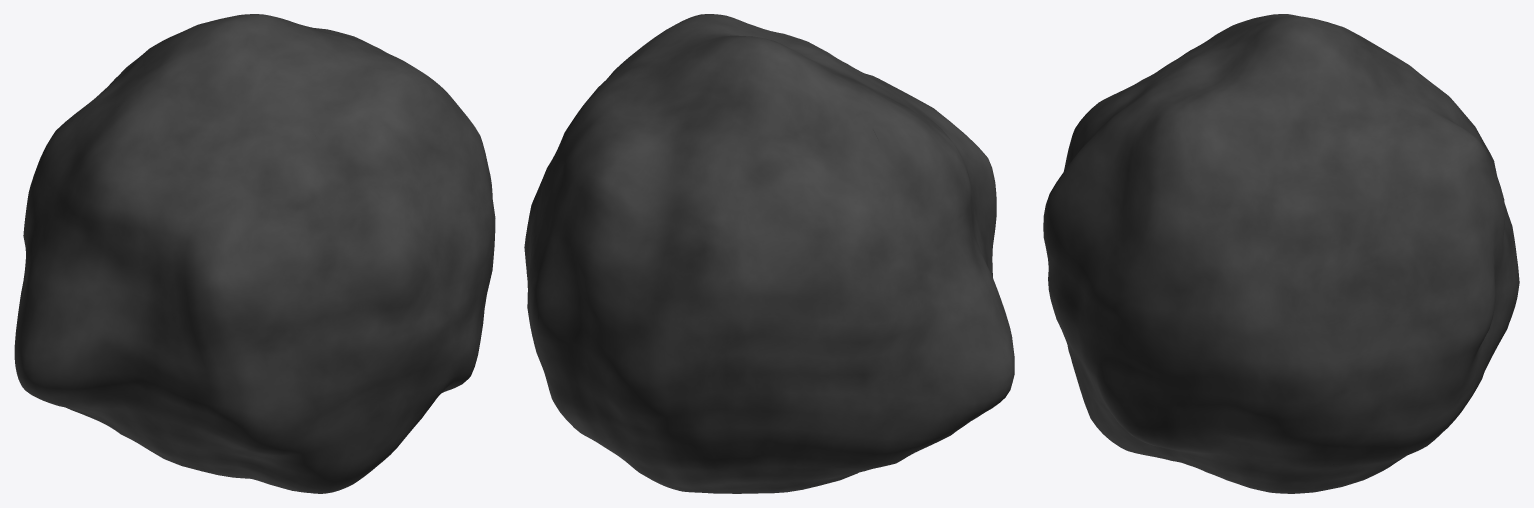
Rendered from Boulder.fbx.
The picture shows the model from 3 angles, left to right: view 1: azimuth 30°, elevation 25°; view 2: azimuth 150°, elevation 25°; view 3: azimuth 270°, elevation 25°; orthographic projection.
Parts seen in each view (by area): view 1: Sphere; view 2: Sphere; view 3: Sphere.
Boxes of the visible parts, left/top/right/bottom form: Sphere: left=14, top=14, right=495, bottom=493; Sphere: left=524, top=14, right=1014, bottom=493; Sphere: left=1043, top=14, right=1519, bottom=493.
Size of the model in its own units: 518 by 468 by 460.
